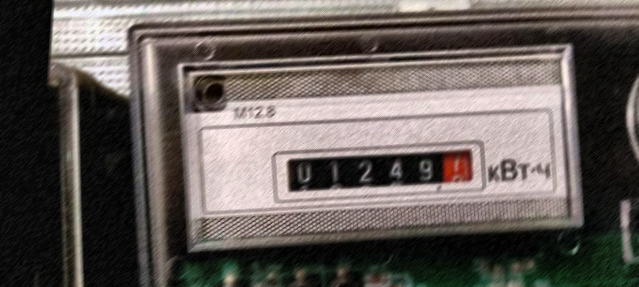0: (293, 157, 314, 184)
1: (325, 158, 342, 184)
2: (355, 158, 377, 185)
4: (387, 154, 407, 182)
7: (448, 150, 465, 175)
9: (416, 156, 436, 182)
screen: (264, 130, 501, 220)
